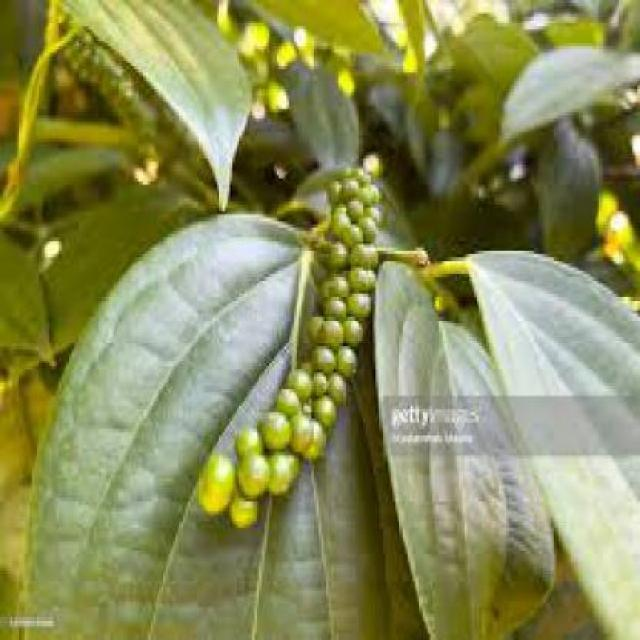UNRIPE: (196, 165, 379, 525)
